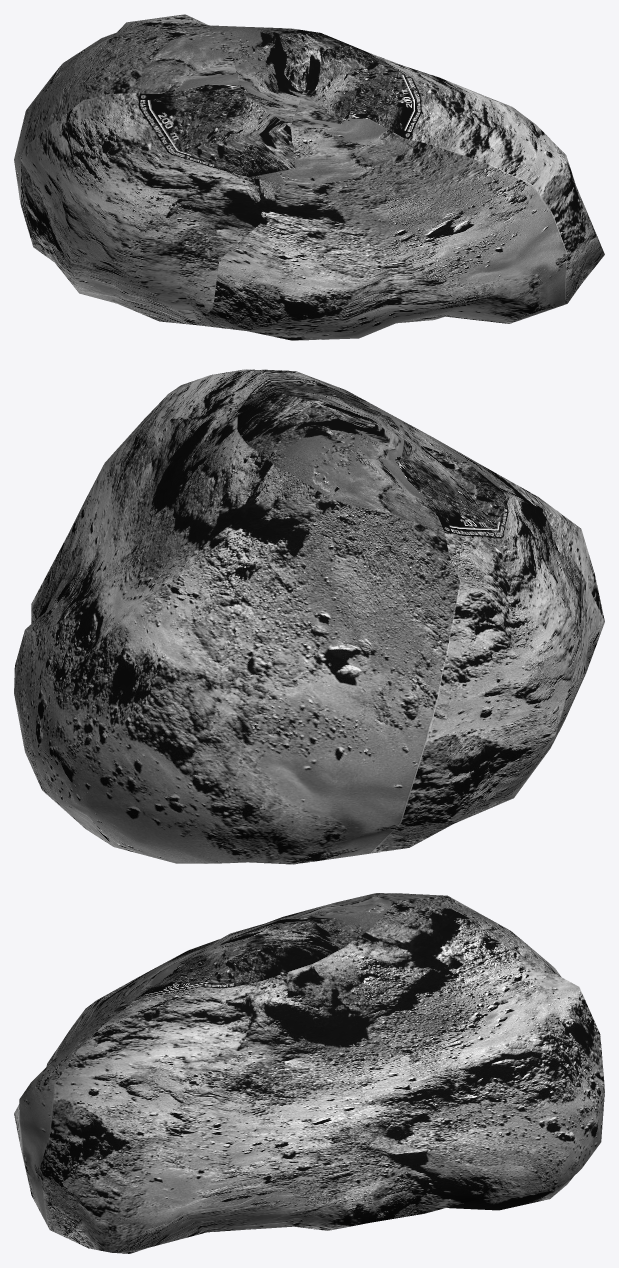
Rendered from cometa.obj.
3 renders of one model, top to bottom at view 1: azimuth 30°, elevation 25°; view 2: azimuth 150°, elevation 25°; view 3: azimuth 270°, elevation 25°, orthographic. The views are drawn at different scales.
Visible parts, largest first — view 1: Icosphere; view 2: Icosphere; view 3: Icosphere.
Part boxes in pixels (bbox=[...]): Icosphere: bbox=[14, 14, 604, 340]; Icosphere: bbox=[14, 369, 604, 864]; Icosphere: bbox=[14, 893, 604, 1253].
Bounding box in the file's own units: 5.11 × 2.92 × 5.83.
Materials: 1 (1 with a texture image).
